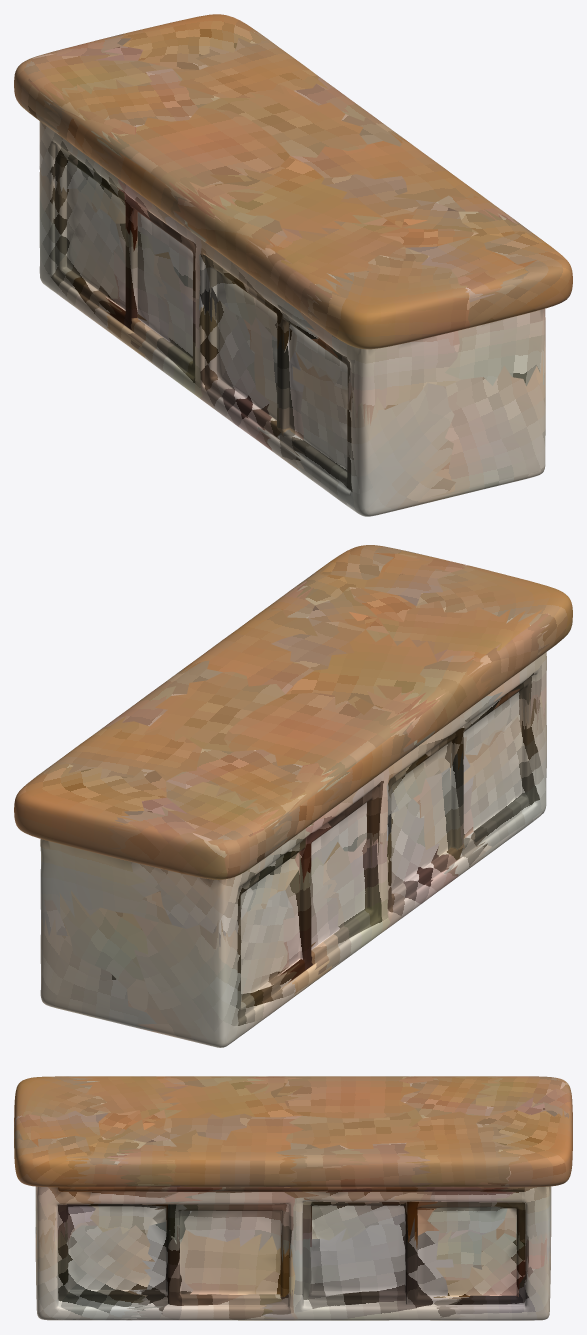
The model's file is JP_사물_s2_station_worktable.glb.
The picture shows the model from 3 angles, top to bottom: view 1: azimuth 30°, elevation 25°; view 2: azimuth 150°, elevation 25°; view 3: azimuth 270°, elevation 25°; orthographic projection. The views are drawn at different scales.
Visible parts, largest first — view 1: tripo_node_806eb2c6-f79e-4fb5-904d-e9ef9a8c7ee7; view 2: tripo_node_806eb2c6-f79e-4fb5-904d-e9ef9a8c7ee7; view 3: tripo_node_806eb2c6-f79e-4fb5-904d-e9ef9a8c7ee7.
Boxes of the visible parts, x1=… form: tripo_node_806eb2c6-f79e-4fb5-904d-e9ef9a8c7ee7: x1=14, y1=14, x2=572, y2=516; tripo_node_806eb2c6-f79e-4fb5-904d-e9ef9a8c7ee7: x1=14, y1=545, x2=572, y2=1047; tripo_node_806eb2c6-f79e-4fb5-904d-e9ef9a8c7ee7: x1=14, y1=1076, x2=572, y2=1320.
Bounding box in the file's own units: 0.3744 × 0.3405 × 1.
1 material, 1 textured.
